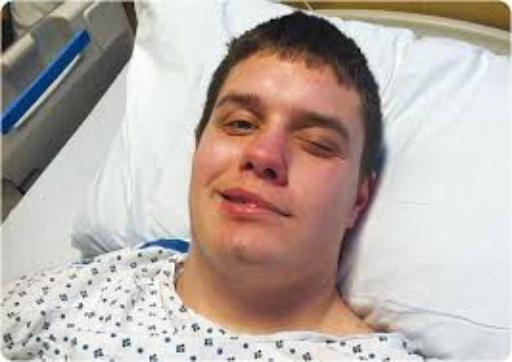left_eye: (298, 140, 338, 157)
left_lip_corner: (279, 209, 304, 223)
right_eye: (221, 120, 259, 135)
right_lip_corner: (213, 189, 231, 206)
